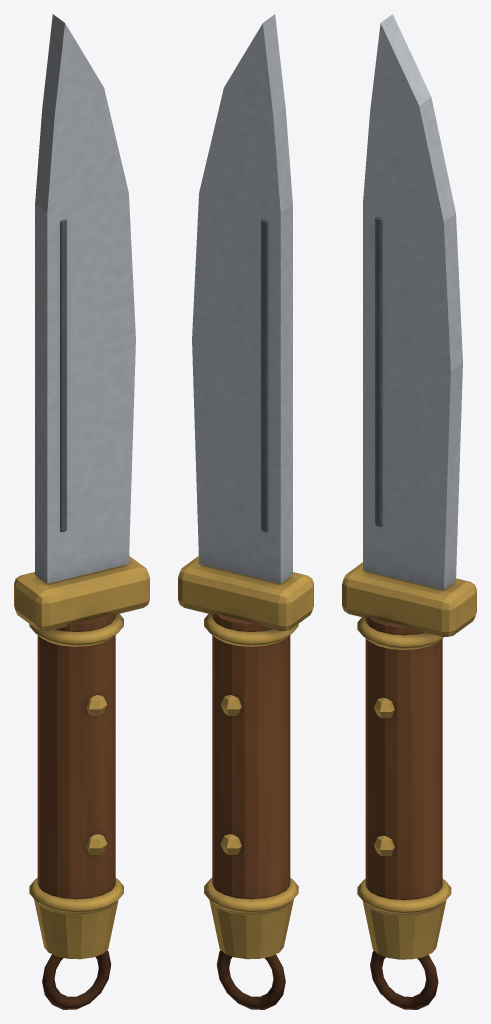
Rendered from 01_plains_dagger.fbx.
3 views of the same model, side by side, from view 1: azimuth 30°, elevation 25°; view 2: azimuth 150°, elevation 25°; view 3: azimuth 330°, elevation 25° (orthographic).
Parts seen in each view (by area): view 1: Weapon; view 2: Weapon; view 3: Weapon.
Boxes of the visible parts, <box> form: Weapon: <box>14,14,149,1009</box>; Weapon: <box>178,14,313,1009</box>; Weapon: <box>342,14,476,1009</box>.
Size of the model in its own units: 6.68 by 56 by 5.01.
Materials: 1 (1 with a texture image).
